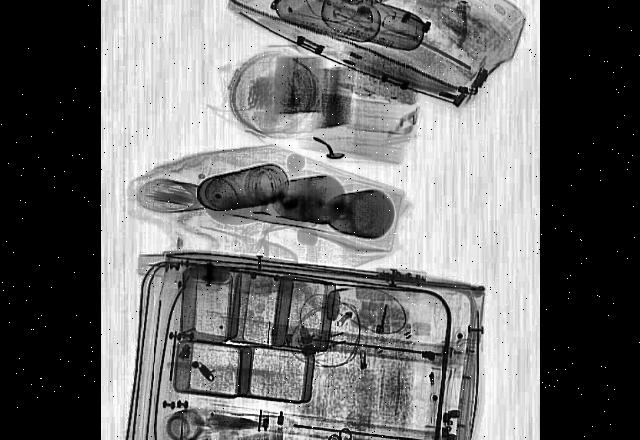Scissors: (324, 419, 361, 440)
